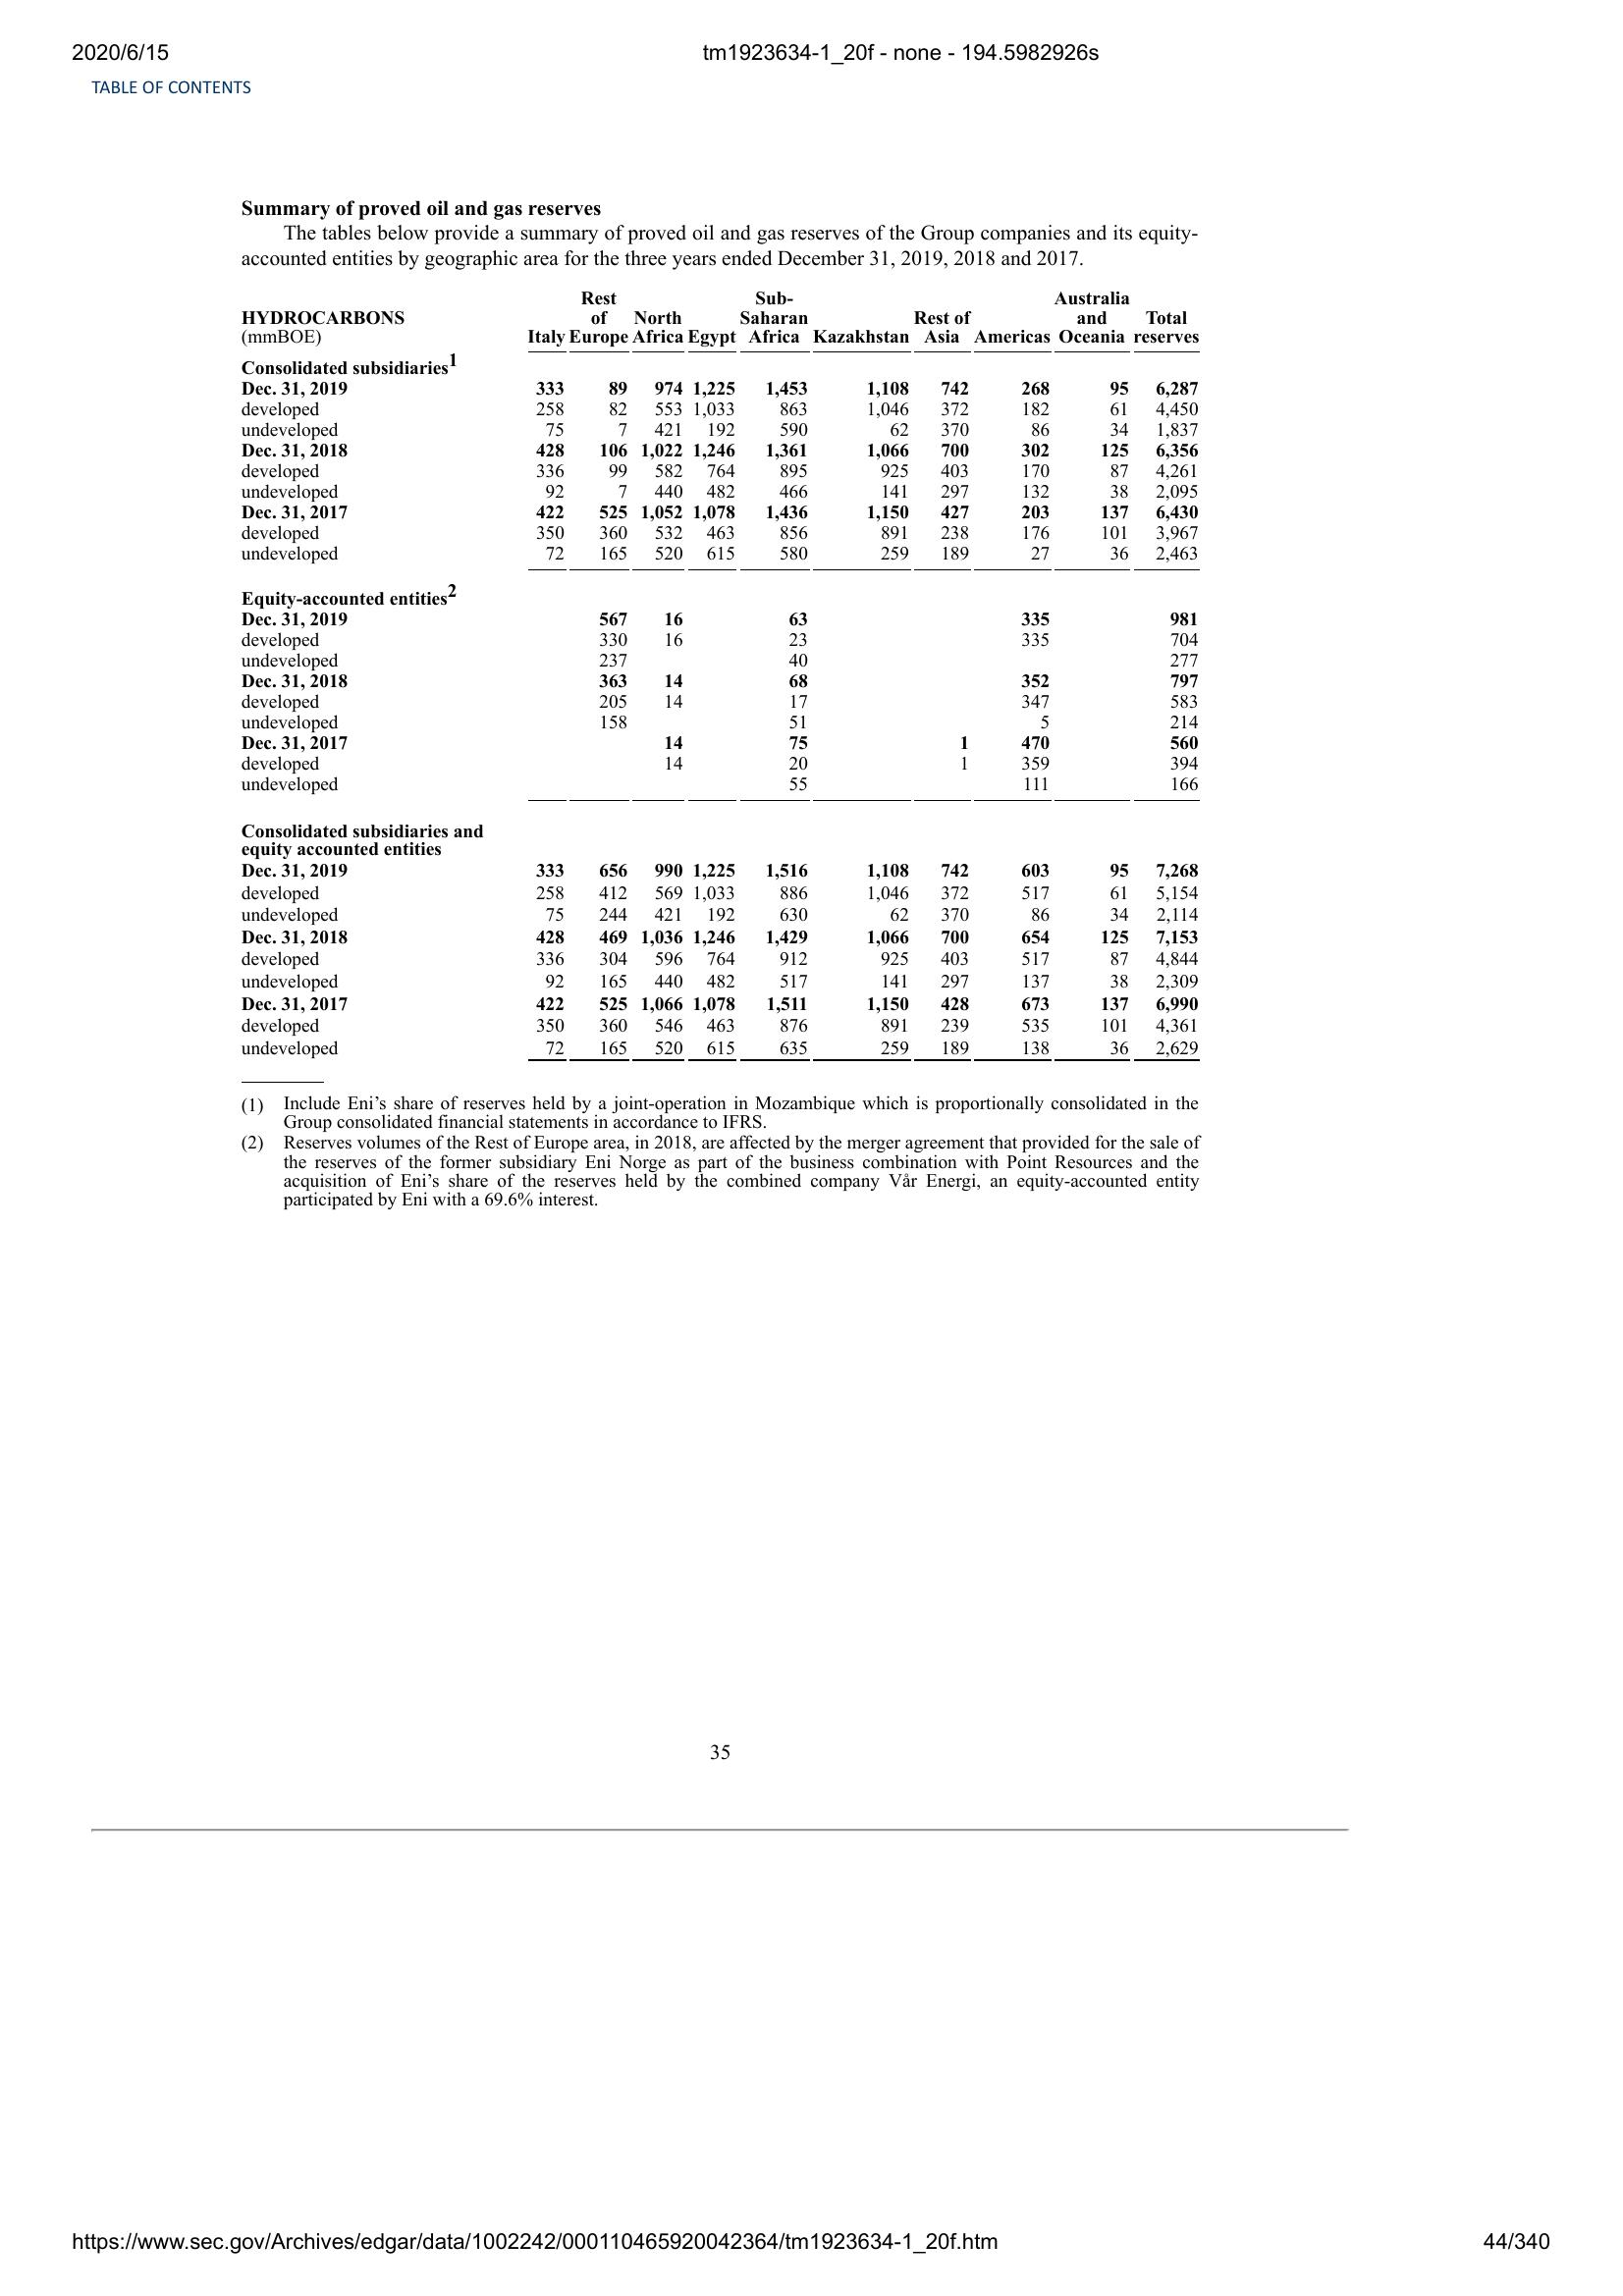table: (234, 284, 1210, 1065)
